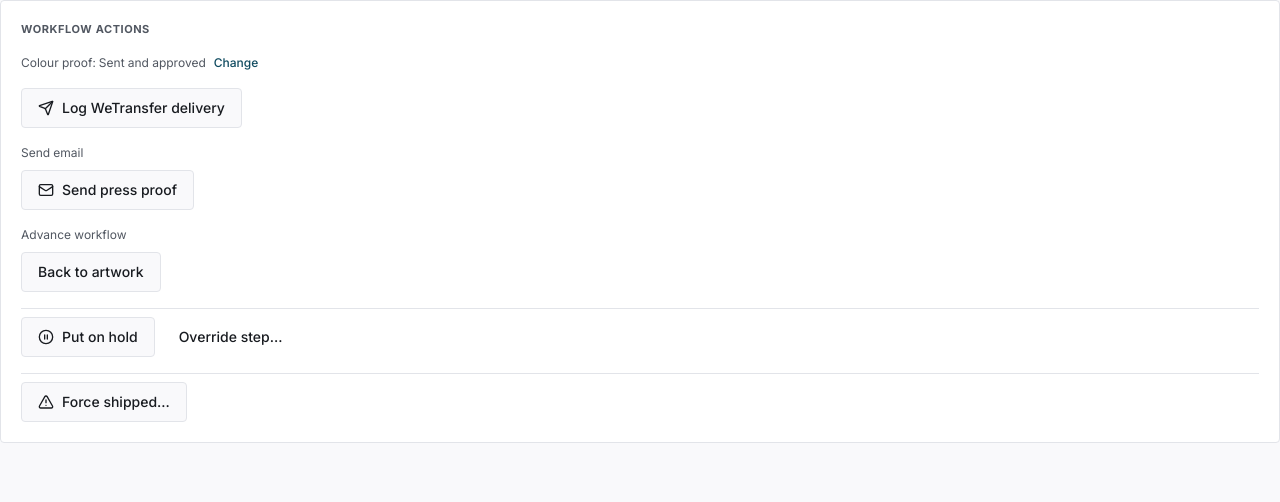
it: WorkflowActions › reopens the outcome selector with Change
What coordinates should you click on to do the following:
click the button "Change"
I would click on:
 (236, 62)
Its box is x1=214 y1=54 x2=258 y2=72.
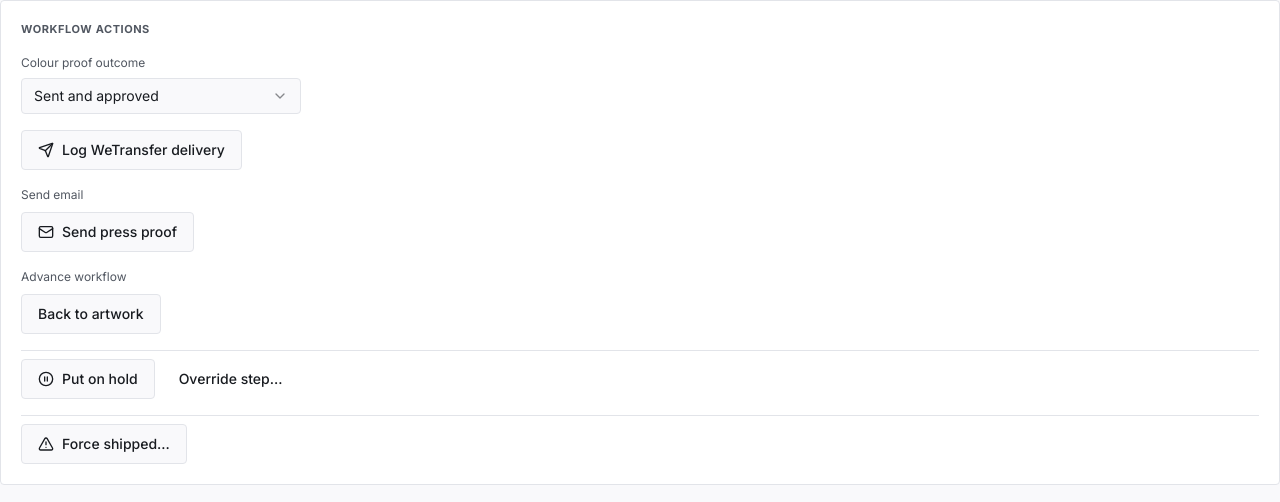
Now the text "Colour proof outcome" is shown, box x1=21 y1=54 x2=145 y2=70
